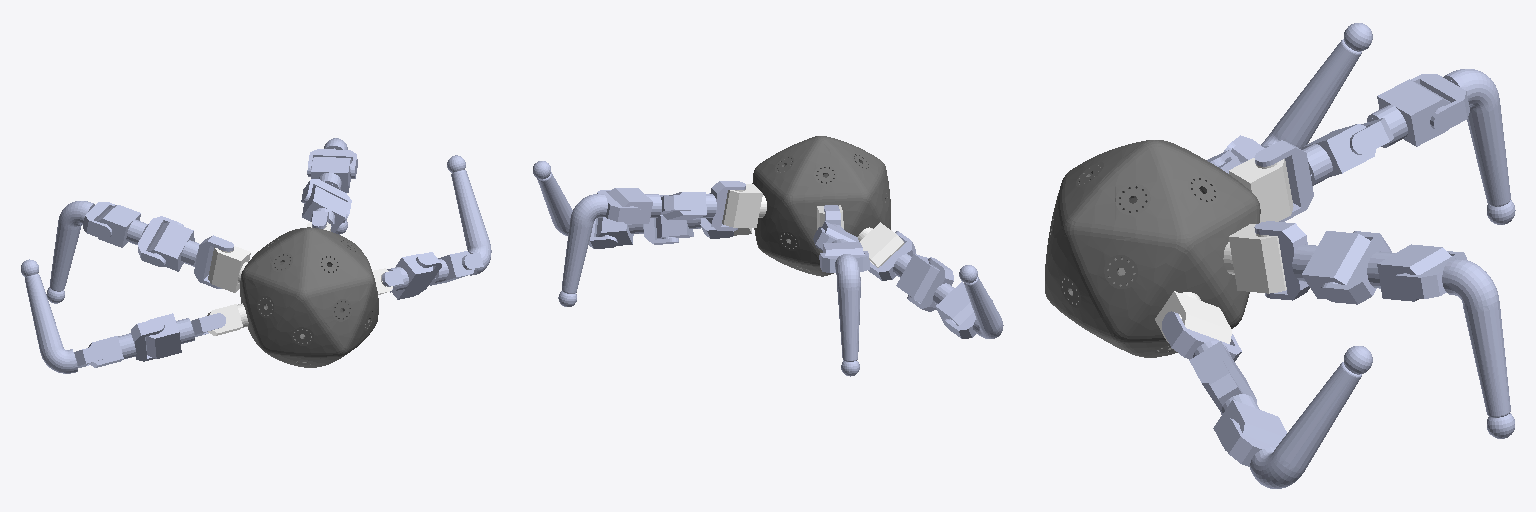
URDF robot description (mod_test):
<?xml version="1.0" encoding="utf-8"?>
<robot
  name="mod_test">
  <link
    name="base_link">
    <inertial>
      <origin
        xyz="-1.5226495220944E-06 1.5812928362389E-07 -5.05247252856584E-07"
        rpy="0 0 0" />
      <mass
        value="0.422806992949252" />
      <inertia
        ixx="0.00237499139253511"
        ixy="1.5717831530364E-08"
        ixz="1.49286265366169E-08"
        iyy="0.00237502154661776"
        iyz="-2.02154172619351E-08"
        izz="0.00237502595466009" />
    </inertial>
    <visual>
      <origin
        xyz="0 0 0"
        rpy="0 0 0" />
      <geometry>
        <mesh
          filename="package://meshes/base_link.STL" />
      </geometry>
      <material
        name="">
        <color
          rgba="0.498039215686275 0.498039215686275 0.498039215686275 1" />
      </material>
    </visual>
    <collision>
      <origin
        xyz="0 0 0"
        rpy="0 0 0" />
      <geometry>
        <mesh
          filename="package://meshes/base_link.STL" />
      </geometry>
    </collision>
  </link>
  <link
   name="70">
   <inertial>
      <origin
        xyz="0 0 0.028508"
        rpy="0 0 0" />
      <mass
        value="0.076173" />
      <inertia
        ixx="3.054E-05"
        ixy="-0.000000"
        ixz="-0.000000"
        iyy="2.1077E-05"
        iyz="-0.000000"
        izz="2.1165E-05" />
    </inertial>
    <visual>
      <origin
        xyz="0 0 0"
        rpy="0 0 0" />
      <geometry>
        <mesh
          filename="package://meshes/1.STL" />
      </geometry>
      <material
        name="">
        <color
          rgba="1 1 1 1" />
      </material>
    </visual>
    <collision>
      <origin
        xyz="0 0 0"
        rpy="0 0 0" />
      <geometry>
        <mesh
          filename="package://meshes/1.STL" />
      </geometry>
    </collision>
  </link>
  <joint
    name="body_70"
    type="fixed">
    <origin
        xyz="0.051620 0.071049 0.016769"
        rpy="1.382126 -0.000000 2.513274" />
    <parent
      link="base_link" />
    <child
      link="70" />
    <axis
      xyz="0 0 0" />
  </joint>
  <link
    name="71">
    <inertial>
      <origin
        xyz="0.060018 -1.4108E-06 1.4108E-06"
        rpy="0 0 0" />
    <mass
        value="0.10689" />
      <inertia
        ixx="3.2241e-05"
        ixy="3.5298e-07"
        ixz="2.0781e-07"
        iyy="8.5969e-05"
        iyz="-3.9192e-06"
        izz="8.1482e-05" />
    </inertial>
    <visual>
      <origin
        xyz="0 0 0"
        rpy="0 0 0" />
      <geometry>
        <mesh
          filename="package://meshes/module4.STL" />
      </geometry>
      <material
        name="">
        <color
          rgba="0.79216 0.81961 0.93333 1" />
      </material>
    </visual>
    <collision>
      <origin
        xyz="0 0 0"
        rpy="0 0 0" />
      <geometry>
        <mesh
          filename="package://meshes/module4.STL" />
      </geometry>
    </collision>
  </link>
  <joint
    name="70_71"
    type="revolute">
    <origin
      xyz="0 0 0.04"
      rpy="-1.558 -1.5708 -0.012835" />
    <parent
      link="70" />
    <child
      link="71" />
    <axis
      xyz="0 0 1" />
    <limit
      lower="-6.28"
      upper="6.28"
      effort="10"
      velocity="100" />
  </joint>
  <link
    name="72">
    <inertial>
      <origin
        xyz="0.060018 -1.4108E-06 1.4108E-06"
        rpy="0 0 0" />
    <mass
        value="0.10689" />
      <inertia
        ixx="3.2684e-05"
        ixy="-2.5662e-09"
        ixz="2.5662e-09"
        iyy="9.1229e-05"
        iyz="-4.0975e-06"
        izz="7.7485e-05" />
    </inertial>
    <visual>
      <origin
        xyz="0 0 0"
        rpy="0 0 0" />
      <geometry>
        <mesh
          filename="package://meshes/module11.STL" />
      </geometry>
      <material
        name="">
        <color
          rgba="0.79216 0.81961 0.93333 1" />
      </material>
    </visual>
    <collision>
      <origin
        xyz="0 0 0"
        rpy="0 0 0" />
      <geometry>
        <mesh
          filename="package://meshes/module11.STL" />
      </geometry>
    </collision>
  </link>
  <joint
    name="71_72"
    type="revolute">
    <origin
      xyz="0.0816 0 0"
      rpy="2.094395 0 0" />
    <parent
      link="71" />
    <child
      link="72" />
    <axis
      xyz="0 0 1" />
    <limit
      lower="-6.28"
      upper="6.28"
      effort="10"
      velocity="100" />
  </joint>
  <link
    name="73">
    <inertial>
      <origin
        xyz="0.051733 -0.042281 -1.3878E-17"
        rpy="0 0 0" />
    <mass
        value="0.12059" />
      <inertia
        ixx="0.00025425"
        ixy="4.8319E-05"
        ixz="0"
        iyy="5.0194E-05"
        iyz="-3.3141E-21"
        izz="0.00027482" />
    </inertial>
    <visual>
      <origin
        xyz="0 0 0"
        rpy="0 0 0" />
      <geometry>
        <mesh
          filename="package://meshes/leg.STL" />
      </geometry>
      <material
        name="">
        <color
          rgba="0.79216 0.81961 0.93333 1" />
      </material>
    </visual>
    <collision>
      <origin
        xyz="0 0 0"
        rpy="0 0 0" />
      <geometry>
        <mesh
          filename="package://meshes/leg.STL" />
      </geometry>
    </collision>
  </link>
  <joint
    name="72_73"
    type="revolute">
    <origin
      xyz="0.0816 0 0"
      rpy="5.759587 0 0" />
    <parent
      link="72" />
    <child
      link="73" />
    <axis
      xyz="0 0 1" />
    <limit
      lower="-6.28"
      upper="6.28"
      effort="10"
      velocity="100" />
  </joint>
  <link
   name="110">
   <inertial>
      <origin
        xyz="0 0 0.028508"
        rpy="0 0 0" />
      <mass
        value="0.076173" />
      <inertia
        ixx="3.054E-05"
        ixy="-0.000000"
        ixz="-0.000000"
        iyy="2.1077E-05"
        iyz="-0.000000"
        izz="2.1165E-05" />
    </inertial>
    <visual>
      <origin
        xyz="0 0 0"
        rpy="0 0 0" />
      <geometry>
        <mesh
          filename="package://meshes/1.STL" />
      </geometry>
      <material
        name="">
        <color
          rgba="1 1 1 1" />
      </material>
    </visual>
    <collision>
      <origin
        xyz="0 0 0"
        rpy="0 0 0" />
      <geometry>
        <mesh
          filename="package://meshes/1.STL" />
      </geometry>
    </collision>
  </link>
  <joint
    name="body_110"
    type="fixed">
    <origin
        xyz="0.083523 0.027138 -0.016769"
        rpy="-1.935587 1.017234 -1.570734" />
    <parent
      link="base_link" />
    <child
      link="110" />
    <axis
      xyz="0 0 0" />
  </joint>
  <link
    name="111">
    <inertial>
      <origin
        xyz="0.060018 -1.4108E-06 1.4108E-06"
        rpy="0 0 0" />
    <mass
        value="0.10689" />
      <inertia
        ixx="3.2684e-05"
        ixy="-2.5662e-09"
        ixz="2.5662e-09"
        iyy="9.1229e-05"
        iyz="-4.0975e-06"
        izz="7.7485e-05" />
    </inertial>
    <visual>
      <origin
        xyz="0 0 0"
        rpy="0 0 0" />
      <geometry>
        <mesh
          filename="package://meshes/module11.STL" />
      </geometry>
      <material
        name="">
        <color
          rgba="0.79216 0.81961 0.93333 1" />
      </material>
    </visual>
    <collision>
      <origin
        xyz="0 0 0"
        rpy="0 0 0" />
      <geometry>
        <mesh
          filename="package://meshes/module11.STL" />
      </geometry>
    </collision>
  </link>
  <joint
    name="110_111"
    type="revolute">
    <origin
      xyz="0 0 0.04"
      rpy="-1.558 -1.5708 -0.012835" />
    <parent
      link="110" />
    <child
      link="111" />
    <axis
      xyz="0 0 1" />
    <limit
      lower="-6.28"
      upper="6.28"
      effort="10"
      velocity="100" />
  </joint>
  <link
    name="112">
    <inertial>
      <origin
        xyz="0.060018 -1.4108E-06 1.4108E-06"
        rpy="0 0 0" />
    <mass
        value="0.10689" />
      <inertia
        ixx="3.2684e-05"
        ixy="-2.5662e-09"
        ixz="2.5662e-09"
        iyy="9.1229e-05"
        iyz="4.0975e-06"
        izz="7.7485e-05" />
    </inertial>
    <visual>
      <origin
        xyz="0 0 0"
        rpy="0 0 0" />
      <geometry>
        <mesh
          filename="package://meshes/module1.STL" />
      </geometry>
      <material
        name="">
        <color
          rgba="0.79216 0.81961 0.93333 1" />
      </material>
    </visual>
    <collision>
      <origin
        xyz="0 0 0"
        rpy="0 0 0" />
      <geometry>
        <mesh
          filename="package://meshes/module1.STL" />
      </geometry>
    </collision>
  </link>
  <joint
    name="111_112"
    type="revolute">
    <origin
      xyz="0.0816 0 0"
      rpy="5.759587 0 0" />
    <parent
      link="111" />
    <child
      link="112" />
    <axis
      xyz="0 0 1" />
    <limit
      lower="-6.28"
      upper="6.28"
      effort="10"
      velocity="100" />
  </joint>
  <link
    name="113">
    <inertial>
      <origin
        xyz="0.051733 -0.042281 -1.3878E-17"
        rpy="0 0 0" />
    <mass
        value="0.12059" />
      <inertia
        ixx="0.00025425"
        ixy="4.8319E-05"
        ixz="0"
        iyy="5.0194E-05"
        iyz="-3.3141E-21"
        izz="0.00027482" />
    </inertial>
    <visual>
      <origin
        xyz="0 0 0"
        rpy="0 0 0" />
      <geometry>
        <mesh
          filename="package://meshes/leg.STL" />
      </geometry>
      <material
        name="">
        <color
          rgba="0.79216 0.81961 0.93333 1" />
      </material>
    </visual>
    <collision>
      <origin
        xyz="0 0 0"
        rpy="0 0 0" />
      <geometry>
        <mesh
          filename="package://meshes/leg.STL" />
      </geometry>
    </collision>
  </link>
  <joint
    name="112_113"
    type="revolute">
    <origin
      xyz="0.0816 0 0"
      rpy="0.523599 0 0" />
    <parent
      link="112" />
    <child
      link="113" />
    <axis
      xyz="0 0 1" />
    <limit
      lower="-6.28"
      upper="6.28"
      effort="10"
      velocity="100" />
  </joint>
  <link
   name="130">
   <inertial>
      <origin
        xyz="0 0 0.028508"
        rpy="0 0 0" />
      <mass
        value="0.076173" />
      <inertia
        ixx="3.054E-05"
        ixy="-0.000000"
        ixz="0.000000"
        iyy="2.1077E-05"
        iyz="-0.000000"
        izz="2.1165E-05" />
    </inertial>
    <visual>
      <origin
        xyz="0 0 0"
        rpy="0 0 0" />
      <geometry>
        <mesh
          filename="package://meshes/1.STL" />
      </geometry>
      <material
        name="">
        <color
          rgba="1 1 1 1" />
      </material>
    </visual>
    <collision>
      <origin
        xyz="0 0 0"
        rpy="0 0 0" />
      <geometry>
        <mesh
          filename="package://meshes/1.STL" />
      </geometry>
    </collision>
  </link>
  <joint
    name="body_130"
    type="fixed">
    <origin
        xyz="-0.083523 0.027138 -0.016769"
        rpy="1.935587 1.017234 -1.570859" />
    <parent
      link="base_link" />
    <child
      link="130" />
    <axis
      xyz="0 0 0" />
  </joint>
  <link
    name="131">
    <inertial>
      <origin
        xyz="0.060018 -1.4108E-06 1.4108E-06"
        rpy="0 0 0" />
    <mass
        value="0.10689" />
      <inertia
        ixx="3.2684e-05"
        ixy="-2.5662e-09"
        ixz="2.5662e-09"
        iyy="9.1229e-05"
        iyz="4.0975e-06"
        izz="7.7485e-05" />
    </inertial>
    <visual>
      <origin
        xyz="0 0 0"
        rpy="0 0 0" />
      <geometry>
        <mesh
          filename="package://meshes/module1.STL" />
      </geometry>
      <material
        name="">
        <color
          rgba="0.79216 0.81961 0.93333 1" />
      </material>
    </visual>
    <collision>
      <origin
        xyz="0 0 0"
        rpy="0 0 0" />
      <geometry>
        <mesh
          filename="package://meshes/module1.STL" />
      </geometry>
    </collision>
  </link>
  <joint
    name="130_131"
    type="revolute">
    <origin
      xyz="0 0 0.04"
      rpy="-1.558 -1.5708 -0.012835" />
    <parent
      link="130" />
    <child
      link="131" />
    <axis
      xyz="0 0 1" />
    <limit
      lower="-6.28"
      upper="6.28"
      effort="10"
      velocity="100" />
  </joint>
  <link
    name="132">
    <inertial>
      <origin
        xyz="0.060018 -1.4108E-06 1.4108E-06"
        rpy="0 0 0" />
    <mass
        value="0.10689" />
      <inertia
        ixx="3.2684e-05"
        ixy="-2.5662e-09"
        ixz="2.5662e-09"
        iyy="9.1229e-05"
        iyz="-4.0975e-06"
        izz="7.7485e-05" />
    </inertial>
    <visual>
      <origin
        xyz="0 0 0"
        rpy="0 0 0" />
      <geometry>
        <mesh
          filename="package://meshes/module11.STL" />
      </geometry>
      <material
        name="">
        <color
          rgba="0.79216 0.81961 0.93333 1" />
      </material>
    </visual>
    <collision>
      <origin
        xyz="0 0 0"
        rpy="0 0 0" />
      <geometry>
        <mesh
          filename="package://meshes/module11.STL" />
      </geometry>
    </collision>
  </link>
  <joint
    name="131_132"
    type="revolute">
    <origin
      xyz="0.0816 0 0"
      rpy="0.523599 0 0" />
    <parent
      link="131" />
    <child
      link="132" />
    <axis
      xyz="0 0 1" />
    <limit
      lower="-6.28"
      upper="6.28"
      effort="10"
      velocity="100" />
  </joint>
  <link
    name="133">
    <inertial>
      <origin
        xyz="0.051733 -0.042281 -1.3878E-17"
        rpy="0 0 0" />
    <mass
        value="0.12059" />
      <inertia
        ixx="0.00025425"
        ixy="4.8319E-05"
        ixz="0"
        iyy="5.0194E-05"
        iyz="-3.3141E-21"
        izz="0.00027482" />
    </inertial>
    <visual>
      <origin
        xyz="0 0 0"
        rpy="0 0 0" />
      <geometry>
        <mesh
          filename="package://meshes/leg.STL" />
      </geometry>
      <material
        name="">
        <color
          rgba="0.79216 0.81961 0.93333 1" />
      </material>
    </visual>
    <collision>
      <origin
        xyz="0 0 0"
        rpy="0 0 0" />
      <geometry>
        <mesh
          filename="package://meshes/leg.STL" />
      </geometry>
    </collision>
  </link>
  <joint
    name="132_133"
    type="revolute">
    <origin
      xyz="0.0816 0 0"
      rpy="5.759587 0 0" />
    <parent
      link="132" />
    <child
      link="133" />
    <axis
      xyz="0 0 1" />
    <limit
      lower="-6.28"
      upper="6.28"
      effort="10"
      velocity="100" />
  </joint>
  <link
   name="80">
   <inertial>
      <origin
        xyz="0 0 0.028508"
        rpy="0 0 0" />
      <mass
        value="0.076173" />
      <inertia
        ixx="3.054E-05"
        ixy="-0.000000"
        ixz="-0.000000"
        iyy="2.1077E-05"
        iyz="0.000000"
        izz="2.1165E-05" />
    </inertial>
    <visual>
      <origin
        xyz="0 0 0"
        rpy="0 0 0" />
      <geometry>
        <mesh
          filename="package://meshes/1.STL" />
      </geometry>
      <material
        name="">
        <color
          rgba="1 1 1 1" />
      </material>
    </visual>
    <collision>
      <origin
        xyz="0 0 0"
        rpy="0 0 0" />
      <geometry>
        <mesh
          filename="package://meshes/1.STL" />
      </geometry>
    </collision>
  </link>
  <joint
    name="body_80"
    type="fixed">
    <origin
        xyz="-0.051620 0.071049 0.016769"
        rpy="-1.382126 -0.000000 0.628319" />
    <parent
      link="base_link" />
    <child
      link="80" />
    <axis
      xyz="0 0 0" />
  </joint>
  <link
    name="81">
    <inertial>
      <origin
        xyz="0.060018 -1.4108E-06 1.4108E-06"
        rpy="0 0 0" />
    <mass
        value="0.10689" />
      <inertia
        ixx="3.2684e-05"
        ixy="-2.5662e-09"
        ixz="2.5662e-09"
        iyy="8.6498e-05"
        iyz="4.0975e-06"
        izz="8.2217e-05" />
    </inertial>
    <visual>
      <origin
        xyz="0 0 0"
        rpy="0 0 0" />
      <geometry>
        <mesh
          filename="package://meshes/module8.STL" />
      </geometry>
      <material
        name="">
        <color
          rgba="0.79216 0.81961 0.93333 1" />
      </material>
    </visual>
    <collision>
      <origin
        xyz="0 0 0"
        rpy="0 0 0" />
      <geometry>
        <mesh
          filename="package://meshes/module8.STL" />
      </geometry>
    </collision>
  </link>
  <joint
    name="80_81"
    type="revolute">
    <origin
      xyz="0 0 0.04"
      rpy="-1.558 -1.5708 -0.012835" />
    <parent
      link="80" />
    <child
      link="81" />
    <axis
      xyz="0 0 1" />
    <limit
      lower="-6.28"
      upper="6.28"
      effort="10"
      velocity="100" />
  </joint>
  <link
    name="82">
    <inertial>
      <origin
        xyz="0.060018 -1.4108E-06 1.4108E-06"
        rpy="0 0 0" />
    <mass
        value="0.10689" />
      <inertia
        ixx="3.2684e-05"
        ixy="-2.5662e-09"
        ixz="2.5662e-09"
        iyy="9.1229e-05"
        iyz="4.0975e-06"
        izz="7.7485e-05" />
    </inertial>
    <visual>
      <origin
        xyz="0 0 0"
        rpy="0 0 0" />
      <geometry>
        <mesh
          filename="package://meshes/module1.STL" />
      </geometry>
      <material
        name="">
        <color
          rgba="0.79216 0.81961 0.93333 1" />
      </material>
    </visual>
    <collision>
      <origin
        xyz="0 0 0"
        rpy="0 0 0" />
      <geometry>
        <mesh
          filename="package://meshes/module1.STL" />
      </geometry>
    </collision>
  </link>
  <joint
    name="81_82"
    type="revolute">
    <origin
      xyz="0.0816 0 0"
      rpy="4.188790 0 0" />
    <parent
      link="81" />
    <child
      link="82" />
    <axis
      xyz="0 0 1" />
    <limit
      lower="-6.28"
      upper="6.28"
      effort="10"
      velocity="100" />
  </joint>
  <link
    name="83">
    <inertial>
      <origin
        xyz="0.051733 -0.042281 -1.3878E-17"
        rpy="0 0 0" />
    <mass
        value="0.12059" />
      <inertia
        ixx="0.00025425"
        ixy="4.8319E-05"
        ixz="0"
        iyy="5.0194E-05"
        iyz="-3.3141E-21"
        izz="0.00027482" />
    </inertial>
    <visual>
      <origin
        xyz="0 0 0"
        rpy="0 0 0" />
      <geometry>
        <mesh
          filename="package://meshes/leg.STL" />
      </geometry>
      <material
        name="">
        <color
          rgba="0.79216 0.81961 0.93333 1" />
      </material>
    </visual>
    <collision>
      <origin
        xyz="0 0 0"
        rpy="0 0 0" />
      <geometry>
        <mesh
          filename="package://meshes/leg.STL" />
      </geometry>
    </collision>
  </link>
  <joint
    name="82_83"
    type="revolute">
    <origin
      xyz="0.0816 0 0"
      rpy="0.523599 0 0" />
    <parent
      link="82" />
    <child
      link="83" />
    <axis
      xyz="0 0 1" />
    <limit
      lower="-6.28"
      upper="6.28"
      effort="10"
      velocity="100" />
  </joint>
  <link
    name = "ball_1">
    <inertial>
    <origin
        xyz="0 0 0"
        rpy="0 0 0" />
    <mass
        value="0" />
      <inertia
        ixx="0"
        ixy="0"
        ixz="0"
        iyy="0"
        iyz="0"
        izz="0" />
    </inertial>    <visual>
      <origin
        xyz="0 0 0"
        rpy="0 0 0" />
     <geometry>
        <sphere radius = "0.01"/>
      </geometry>
      <material
        name="green">
        <color
          rgba="0.22 1 0.4 1" />
      </material>
    </visual>
  </link>
  <joint
  name="73_ball1"
  type="fixed">
    <origin
      xyz="0.0612 -0.13431 0"
      rpy="0 0 0" />
    <parent
      link="73" />
    <child
      link="ball_1" />
    <axis
      xyz="0 0 0" />
  </joint>
  <link
    name = "ball_2">
    <inertial>
    <origin
        xyz="0 0 0"
        rpy="0 0 0" />
    <mass
        value="0" />
      <inertia
        ixx="0"
        ixy="0"
        ixz="0"
        iyy="0"
        iyz="0"
        izz="0" />
    </inertial>    <visual>
      <origin
        xyz="0 0 0"
        rpy="0 0 0" />
      <geometry>
        <sphere radius = "0.01"/>
      </geometry>
      <material
        name="blue">
        <color
          rgba="0.16 0.52 0.8 1" />
      </material>
    </visual>
  </link>
  <joint
  name="113_ball2"
  type="fixed">
    <origin
      xyz="0.0612 -0.13431 0"
      rpy="0 0 0" />
    <parent
      link="113" />
    <child
      link="ball_2" />
    <axis
      xyz="0 0 0" />
  </joint>
  <link
    name = "ball_3">
    <inertial>
    <origin
        xyz="0 0 0"
        rpy="0 0 0" />
    <mass
        value="0" />
      <inertia
        ixx="0"
        ixy="0"
        ixz="0"
        iyy="0"
        iyz="0"
        izz="0" />
    </inertial>    <visual>
      <origin
        xyz="0 0 0"
        rpy="0 0 0" />
     <geometry>
        <sphere radius = "0.01"/>
      </geometry>
      <material
        name="blue">
        <color
          rgba="0.16 0.52 0.8 1" />
      </material>
    </visual>
  </link>
  <joint
  name="133_ball3"
  type="fixed">
    <origin
      xyz="0.0612 -0.13431 0"
      rpy="0 0 0" />
    <parent
      link="133" />
    <child
      link="ball_3" />
    <axis
      xyz="0 0 0" />
  </joint>
  <link
    name = "ball_4">
    <inertial>
    <origin
        xyz="0 0 0"
        rpy="0 0 0" />
    <mass
        value="0" />
      <inertia
        ixx="0"
        ixy="0"
        ixz="0"
        iyy="0"
        iyz="0"
        izz="0" />
    </inertial>    <visual>
      <origin
        xyz="0 0 0"
        rpy="0 0 0" />
      <geometry>
        <sphere radius = "0.01"/>
      </geometry>
      <material
        name="yellow">
        <color
          rgba="1 1 0 1" />
      </material>
    </visual>
  </link>
  <joint
  name="83_ball4"
  type="fixed">
    <origin
      xyz="0.0612 -0.13431 0"
      rpy="0 0 0" />
    <parent
      link="83" />
    <child
      link="ball_4" />
    <axis
      xyz="0 0 0" />
  </joint>
</robot>

--- Facts derived from the render (not from the file) ---
3 views of the same robot in one strip: view 1: azimuth 30°, elevation 25°; view 2: azimuth 150°, elevation 25°; view 3: azimuth 270°, elevation 25° (orthographic).
Model mod_test with 21 links and 20 joints (12 revolute, 8 fixed), rooted at base_link, posed all joints at 0.
Visible links, largest first — view 1: base_link, 133, 83, 81, 113, 82, 131, 72, 132, 111, 71, 80 (+3 smaller); view 2: base_link, 73, 83, 131, 133, 132, 113, 72, 71, 70, 112, 130 (+3 smaller); view 3: base_link, 73, 113, 83, 71, 133, 81, 82, 72, 70, 112, 111 (+3 smaller).
Link boxes in pixels (box(x1,y1,x2,y2)): base_link: box(240, 227, 378, 367); 133: box(21, 259, 108, 373); 83: box(46, 201, 114, 303); 81: box(148, 222, 233, 288); 113: box(447, 155, 491, 275); 82: box(97, 205, 183, 266); 131: box(145, 313, 225, 358); 72: box(301, 157, 351, 222); 132: box(88, 319, 164, 367); 111: box(382, 254, 432, 299); 71: box(302, 186, 347, 232); 80: box(208, 246, 250, 292); base_link: box(752, 136, 890, 276); 73: box(558, 190, 641, 306); 83: box(819, 251, 869, 376); 131: box(868, 231, 939, 302); 133: box(943, 265, 1003, 338); 132: box(907, 257, 973, 325); 113: box(533, 161, 617, 248); 72: box(608, 188, 697, 223); 71: box(663, 181, 745, 230); 70: box(722, 184, 766, 227); 112: box(596, 195, 678, 245); 130: box(858, 222, 904, 267); base_link: box(1045, 140, 1260, 357); 73: box(1390, 251, 1514, 438); 113: box(1219, 346, 1372, 488); 83: box(1411, 69, 1515, 224); 71: box(1254, 221, 1370, 300); 133: box(1224, 23, 1372, 151); 81: box(1254, 124, 1375, 221); 82: box(1350, 79, 1450, 154); 72: box(1320, 231, 1451, 304); 70: box(1223, 224, 1286, 293); 112: box(1200, 354, 1286, 450); 111: box(1162, 311, 1256, 411).
Bounding box of the posed robot: 0.693 × 0.4076 × 0.2045 m (x, y, z).
Meshes: 7 distinct files referenced, 17 mesh visuals loaded (7 binary STL).